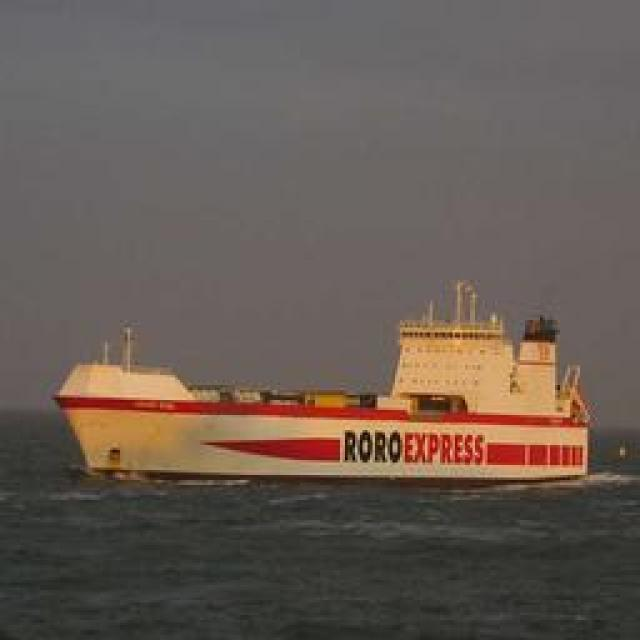CIV_Ship: (50, 334, 590, 488)
